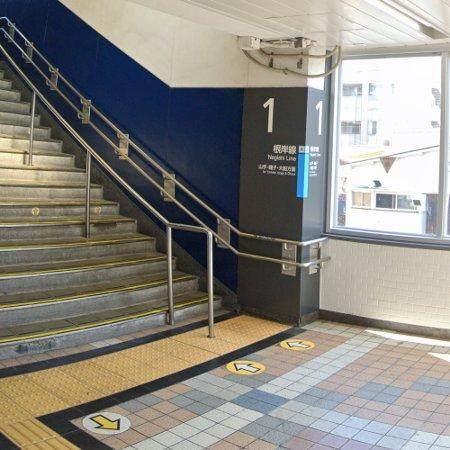stairs: (0, 70, 168, 360)
